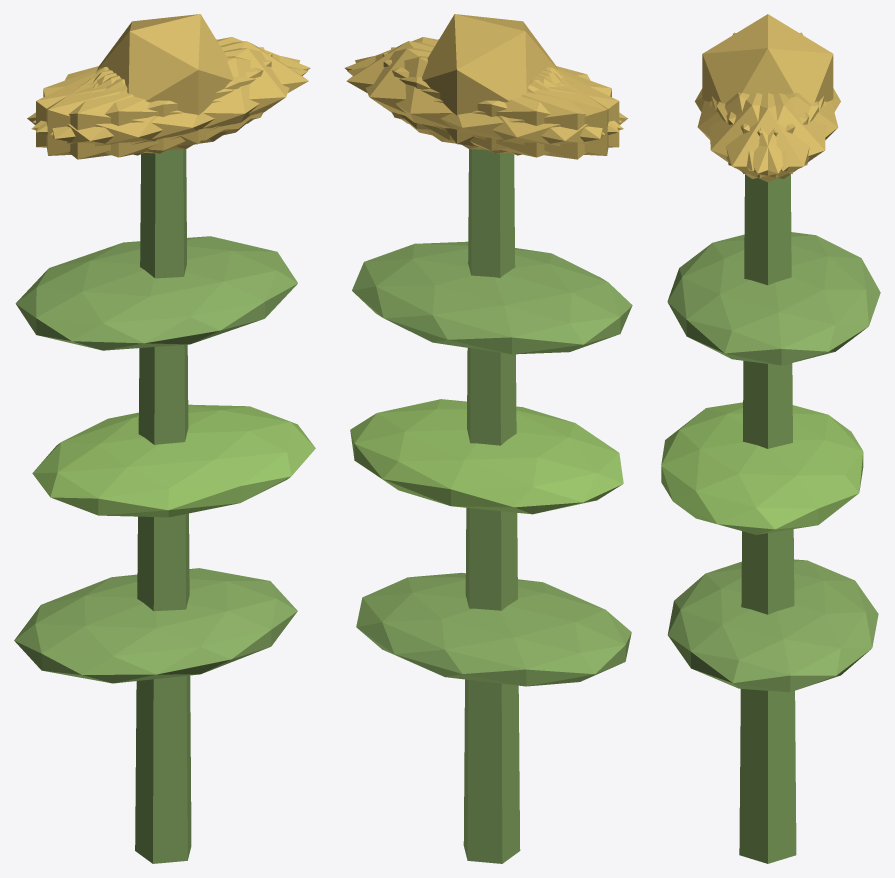
The model's file is magnolia-alba.glb.
The picture shows the model from 3 angles, left to right: view 1: azimuth 30°, elevation 25°; view 2: azimuth 150°, elevation 25°; view 3: azimuth 270°, elevation 25°; orthographic projection.
Parts seen in each view (by area): view 1: stem, leaf2, leaf1, leaf0, center, petal1, petal6, petal2, petal5, petal7, petal0, petal4 (+2 smaller); view 2: stem, leaf2, leaf0, leaf1, center, petal8, petal3, petal7, petal4, petal2, petal0, petal5 (+2 smaller); view 3: stem, leaf2, leaf1, leaf0, center, petal0, petal4, petal5, petal8, petal1.
Part boxes in pixels (box(x1,y1,x2,y2)): stem: box(135, 149, 191, 863); leaf2: box(15, 236, 297, 350); leaf1: box(32, 404, 315, 517); leaf0: box(14, 568, 297, 683); center: box(97, 14, 233, 146); petal1: box(31, 56, 307, 157); petal6: box(27, 68, 227, 159); petal2: box(46, 47, 264, 155); petal5: box(50, 48, 300, 150); petal7: box(36, 53, 272, 153); petal0: box(96, 41, 308, 140); petal4: box(33, 37, 310, 132); stem: box(463, 149, 520, 863); leaf2: box(352, 241, 632, 354); leaf0: box(356, 572, 631, 686); leaf1: box(350, 399, 623, 514); center: box(422, 14, 558, 146); petal8: box(347, 56, 623, 157); petal3: box(428, 68, 627, 159); petal7: box(391, 47, 608, 155); petal4: box(355, 48, 604, 150); petal2: box(383, 53, 619, 153); petal0: box(346, 41, 558, 140); petal5: box(345, 37, 622, 132); stem: box(739, 174, 796, 863); leaf2: box(667, 232, 880, 365); leaf1: box(661, 402, 863, 534); leaf0: box(667, 559, 878, 692); center: box(702, 14, 833, 103); petal0: box(711, 93, 823, 182); petal4: box(716, 93, 825, 178); petal5: box(710, 93, 818, 178); petal8: box(726, 92, 838, 171); petal1: box(697, 92, 809, 171).
Bounding box in the file's own units: 0.1452 × 0.4229 × 0.1026.
